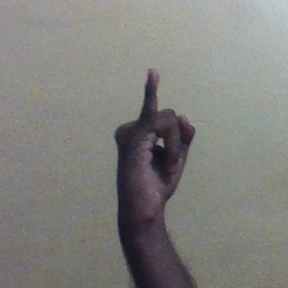I: (109, 66, 197, 201)
